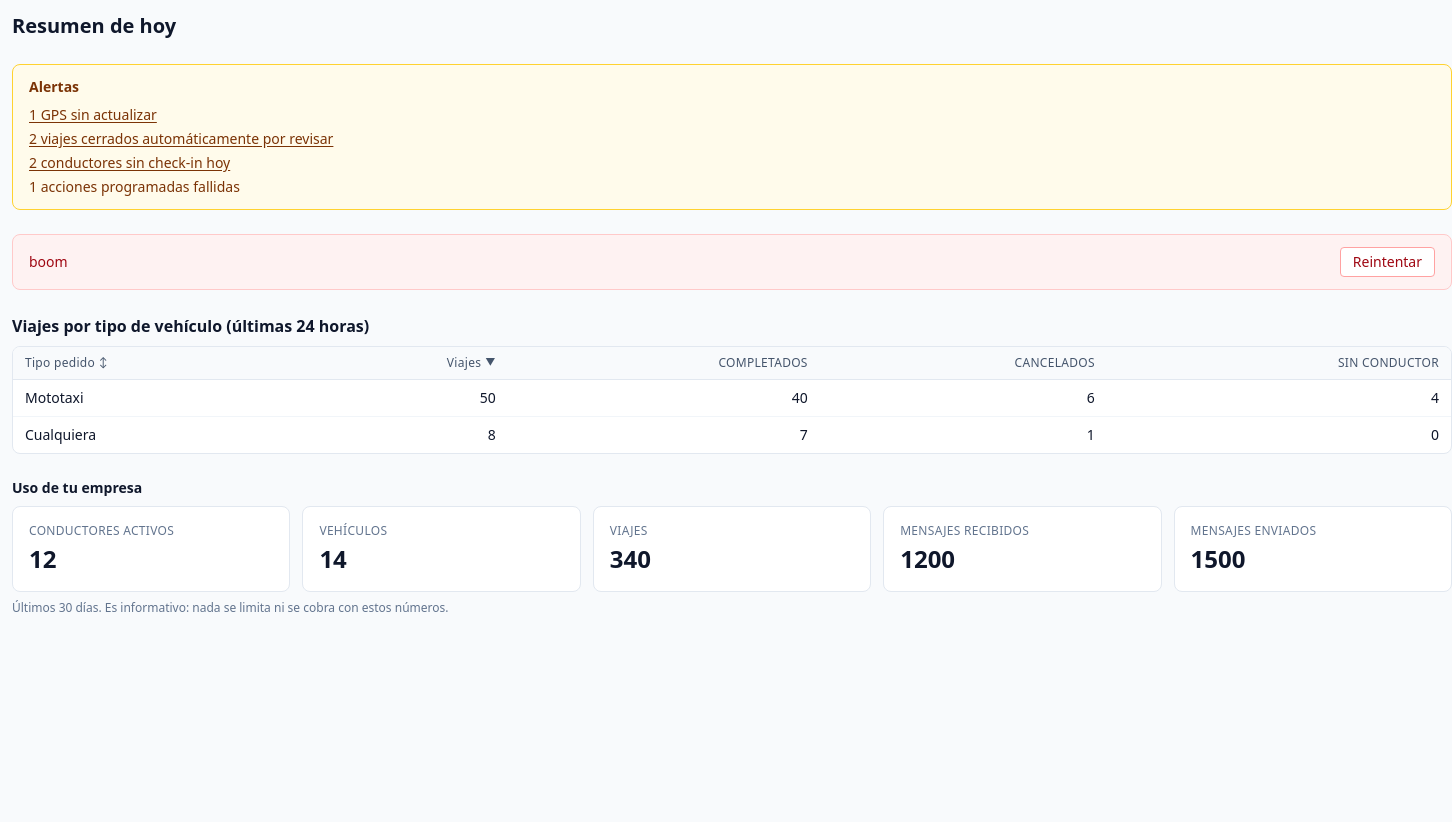
Test: resumen › reintentar vuelve a pedir los datos
Click the button "Reintentar" at (1387, 262), box [1340,247,1435,277]
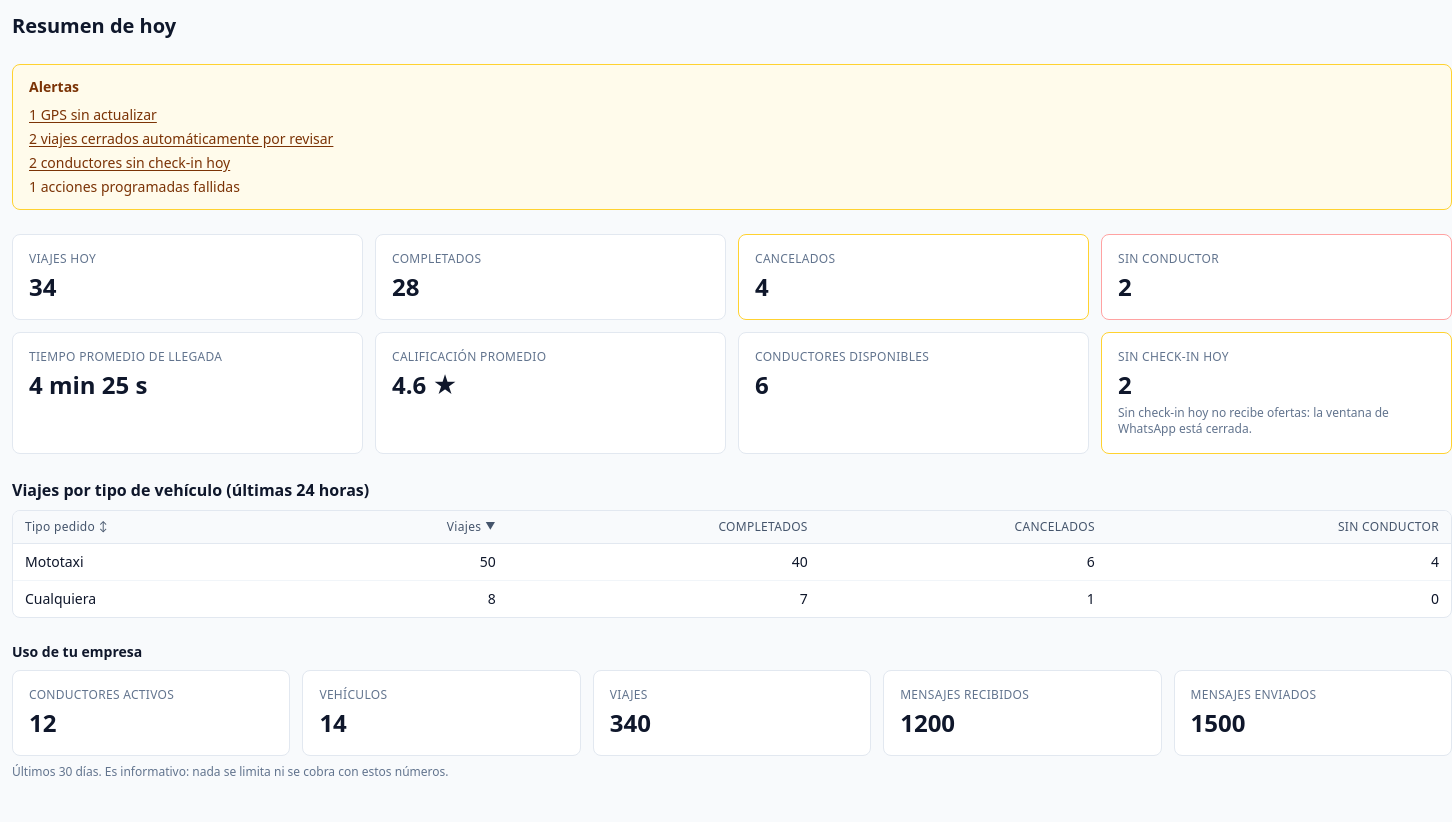
Expected: the text "34" is shown, [29,270,56,303]
